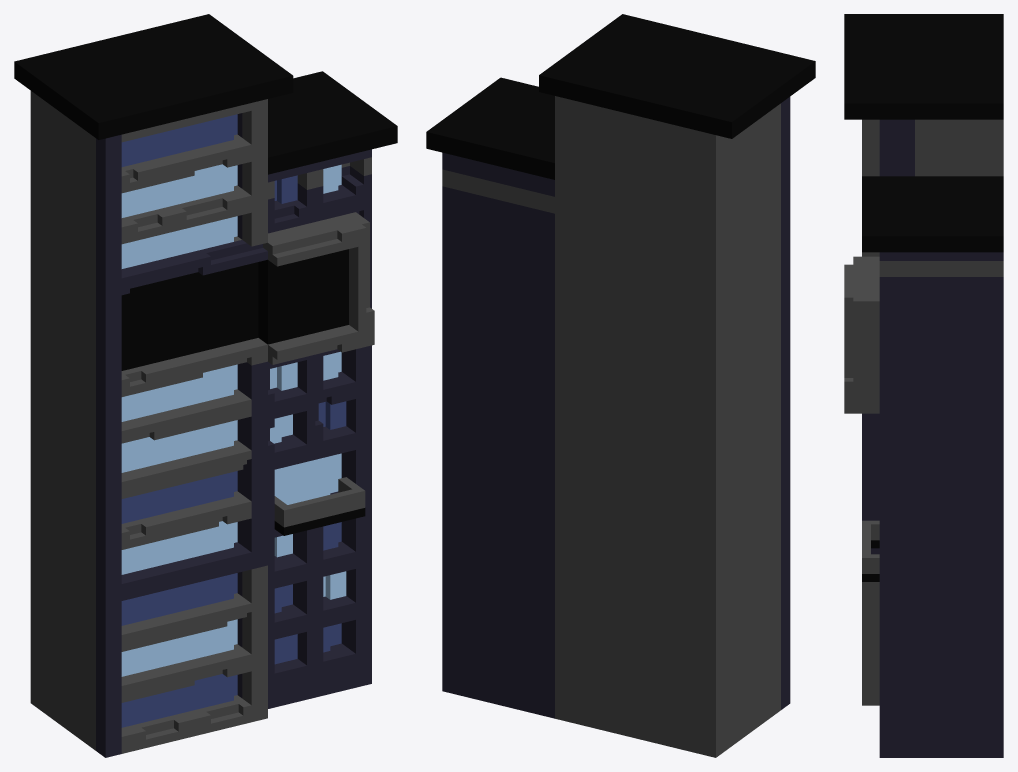
The model's file is Building2.obj.
3 renders of one model, left to right at view 1: azimuth 30°, elevation 25°; view 2: azimuth 150°, elevation 25°; view 3: azimuth 270°, elevation 25°, orthographic. The views are drawn at different scales.
Bounding box in the file's own units: 3.8 × 7.6 × 1.8.
1 material, 1 textured.
